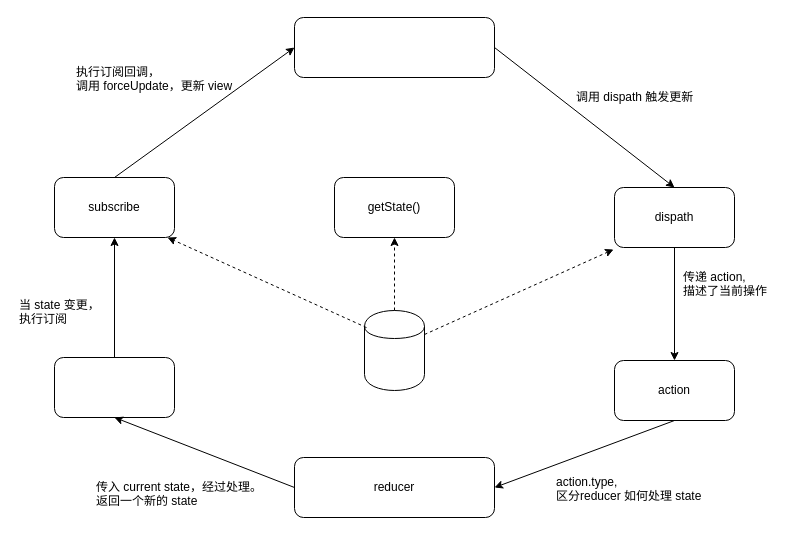
This 798x535 diagram has some shape labels left out. The shapes that lost their labels are listed below. From the top down, each one's box as (x1, y1, x2, y2) in pixels, then its label:
(294, 16, 494, 78): View(React Components)
(364, 310, 424, 390): store(createStore)
(54, 356, 174, 418): state
